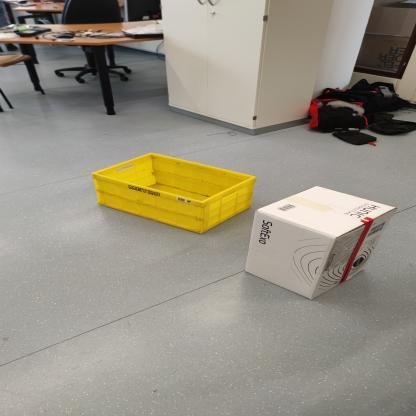-: (247, 177, 399, 303), (88, 145, 255, 232)
